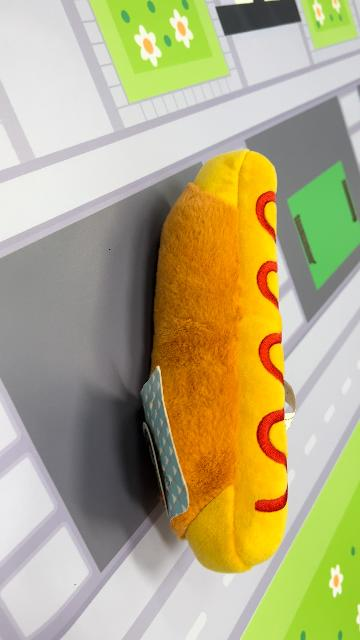hotdog: (141, 148, 291, 576)
